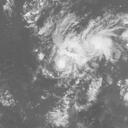cyclone: (43, 34, 93, 82)
